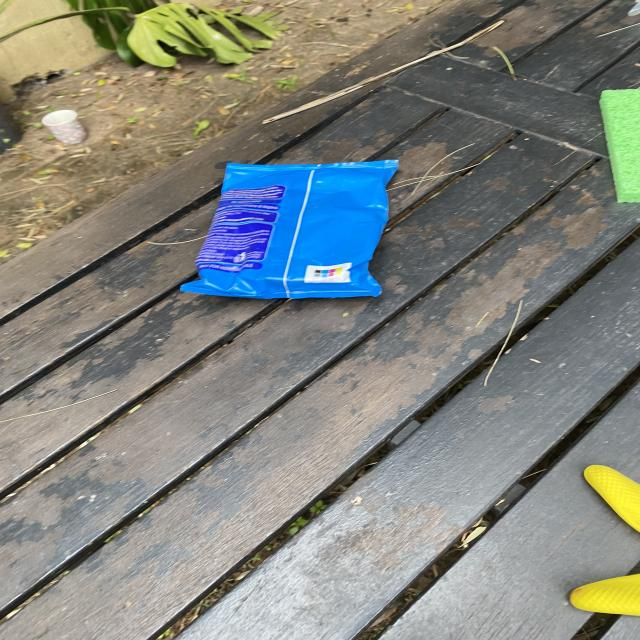bag: (181, 159, 400, 299)
cup: (42, 109, 87, 145)
